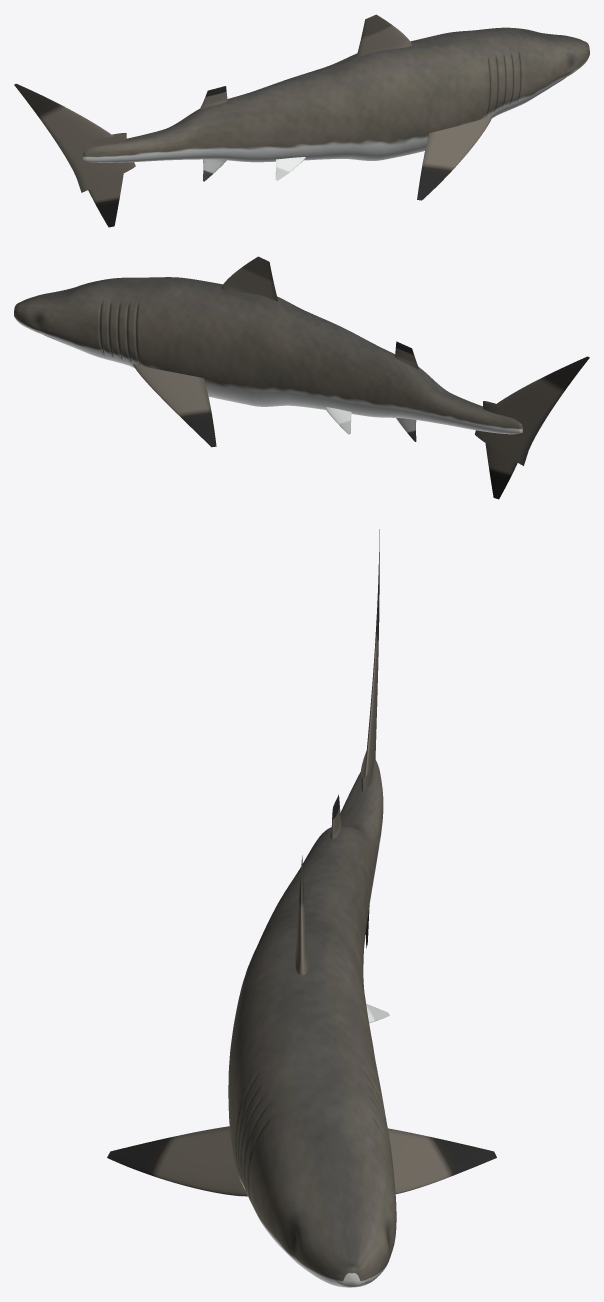
The model's file is spinner_shark.glb.
The picture shows the model from 3 angles, top to bottom: view 1: azimuth 30°, elevation 25°; view 2: azimuth 150°, elevation 25°; view 3: azimuth 270°, elevation 25°; orthographic projection. The views are drawn at different scales.
Parts seen in each view (by area): view 1: spinner_shark_Body, spinner_shark_Fins; view 2: spinner_shark_Body, spinner_shark_Fins; view 3: spinner_shark_Body, spinner_shark_Fins.
Part boxes in pixels (<box>): spinner_shark_Body: <box>83,27,589,162</box>; spinner_shark_Fins: <box>14,14,492,227</box>; spinner_shark_Body: <box>14,277,522,434</box>; spinner_shark_Fins: <box>133,256,589,499</box>; spinner_shark_Body: <box>228,759,396,1287</box>; spinner_shark_Fins: <box>107,529,496,1196</box>.
Size of the model in its own units: 2 by 0.5516 by 0.5956.
Materials: 3 (1 with a texture image).
